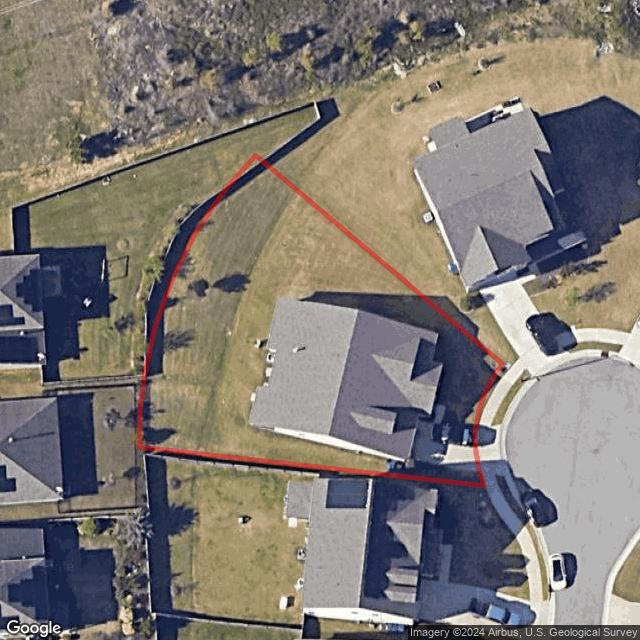Driveway: (415, 422, 477, 472)
Extra-Driveway: (477, 424, 501, 477)
Extra-Lawn: (475, 363, 510, 424), (493, 374, 531, 424)
Extra-Sidewalk: (479, 367, 524, 425), (482, 472, 501, 491)
House: (247, 296, 443, 462)
Lawn: (140, 157, 501, 485)
Sidewalk: (431, 403, 446, 422)
